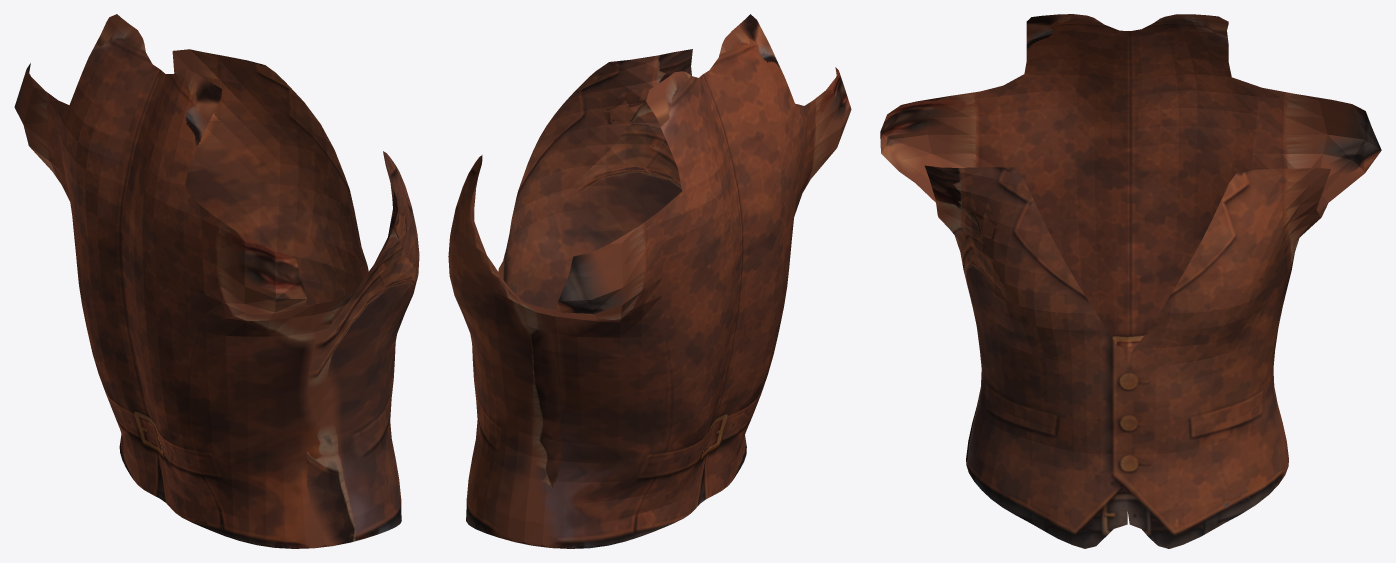
File: bold_cowboy_mhmade_vest.glb
The picture shows the model from 3 angles, left to right: view 1: azimuth 30°, elevation 25°; view 2: azimuth 150°, elevation 25°; view 3: azimuth 270°, elevation 25°; orthographic projection. The views are drawn at different scales.
Visible parts, largest first — view 1: vest; view 2: vest; view 3: vest.
Boxes of the visible parts, x1=… form: vest: x1=14, y1=14, x2=419, y2=548; vest: x1=448, y1=14, x2=851, y2=548; vest: x1=880, y1=14, x2=1381, y2=548.
Bounding box in the file's own units: 0.1551 × 0.2785 × 0.2851.
Materials: 1 (1 with a texture image).
